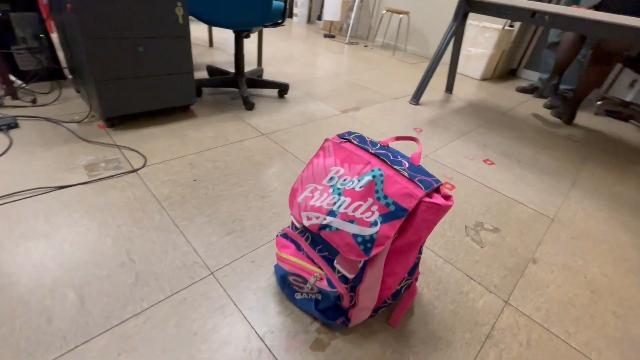Backpack: (269, 127, 459, 340)
Lamp: (320, 1, 344, 42)
Stool: (370, 6, 412, 58)
